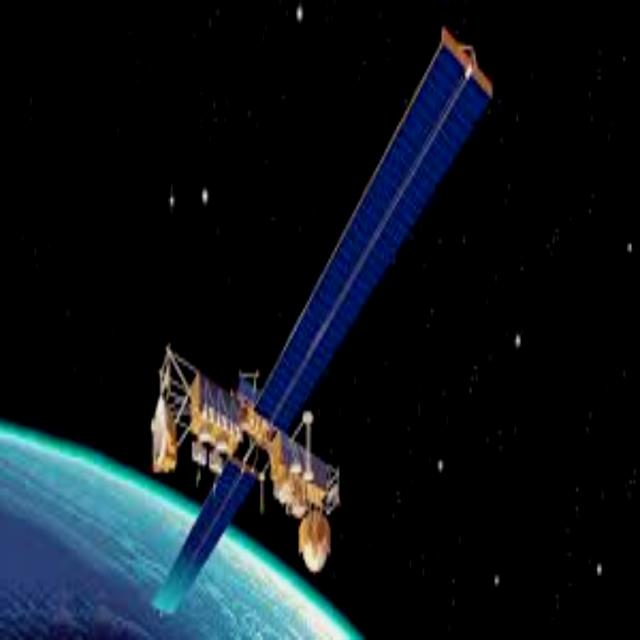medium_debris: (142, 30, 499, 615)
